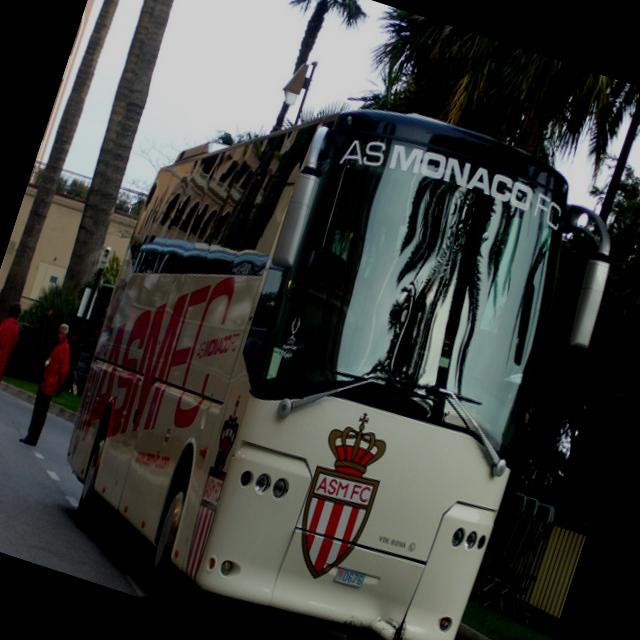Vehicle: (29, 33, 606, 640)
